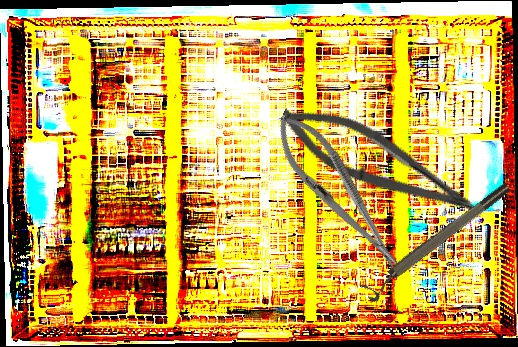Fixation Ring: (358, 179, 518, 305)
Micro Scissor: (270, 92, 490, 228)
Needle Holder: (262, 102, 414, 282)
